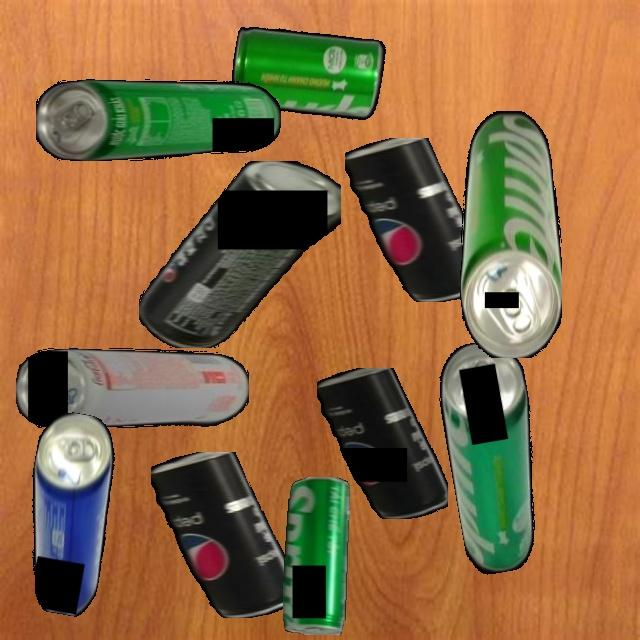debris: (139, 160, 341, 348), (431, 336, 557, 577), (459, 109, 562, 358), (10, 408, 126, 619), (150, 452, 295, 618), (344, 138, 487, 302), (36, 78, 281, 161), (316, 368, 448, 519), (16, 347, 249, 428), (226, 17, 388, 129), (282, 477, 350, 635)
